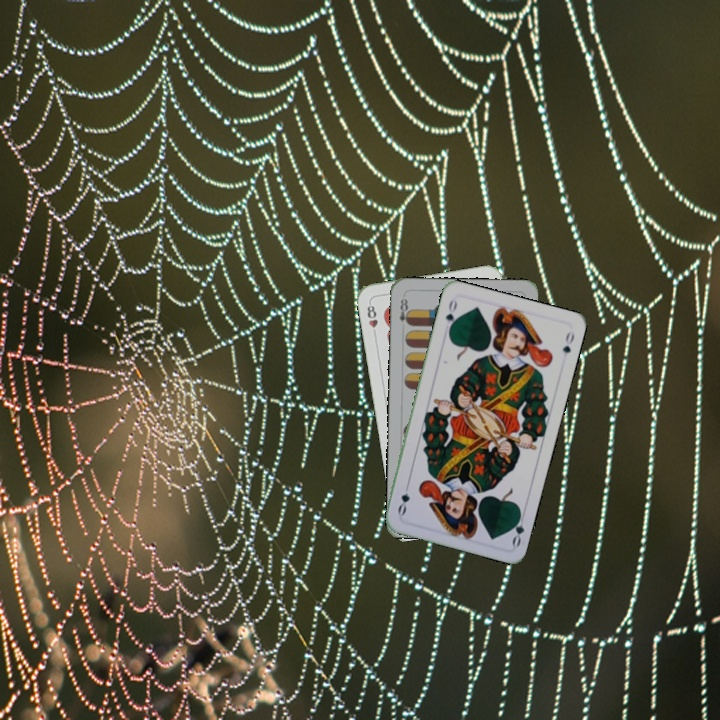E8: (395, 292, 413, 328)
GO: (507, 508, 528, 549), (441, 295, 460, 336)
H8: (363, 298, 380, 339)
